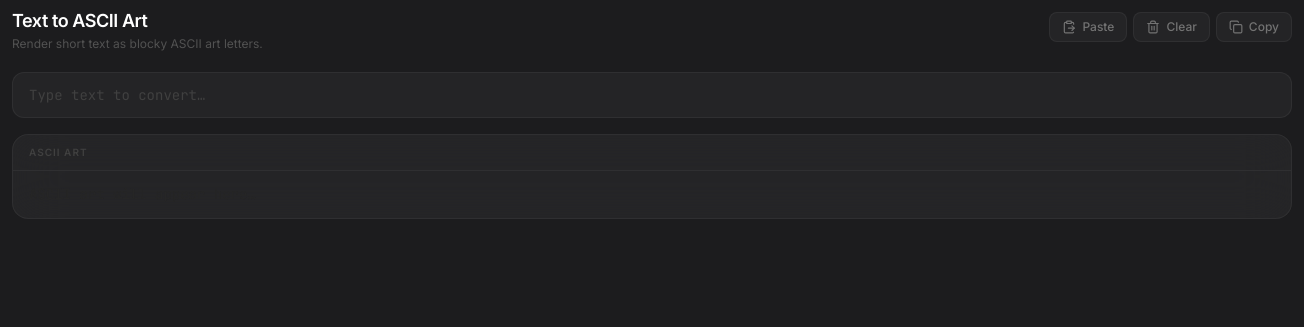
AsciiArtTool › renders ASCII art for typed text
Type "L" into the field with placeholder "Type text to convert…" at (652, 95), box left=12, top=72, right=1292, bottom=118
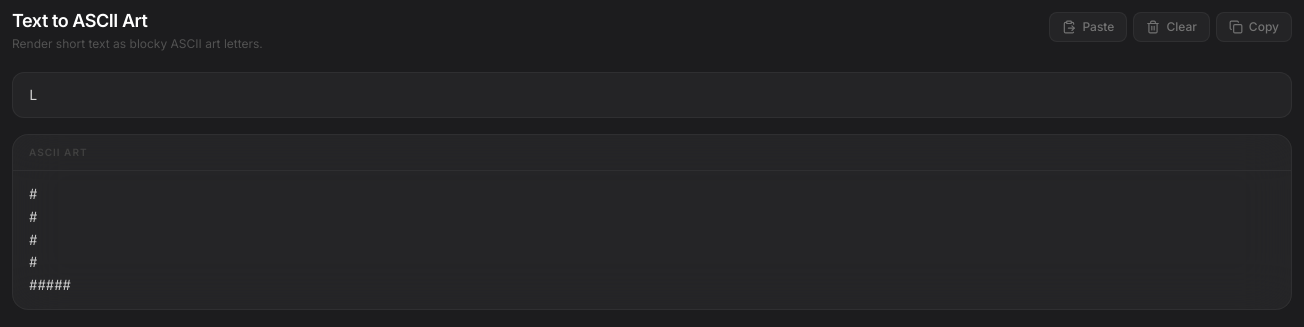
Result: the text "# # # # #####" is shown at left=29, top=185, right=71, bottom=294
